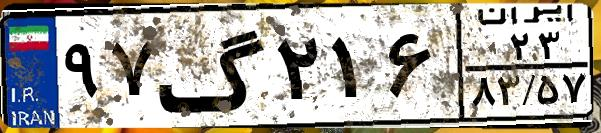1: (330, 28, 385, 110)
2: (270, 28, 330, 110), (508, 27, 537, 80)
3: (537, 27, 568, 80), (495, 70, 520, 125)
5: (535, 70, 560, 125)
6: (385, 28, 445, 110)
7: (110, 28, 156, 98), (560, 70, 590, 125)
8: (470, 70, 495, 125)
9: (57, 26, 110, 100)
گ: (156, 12, 270, 120)
